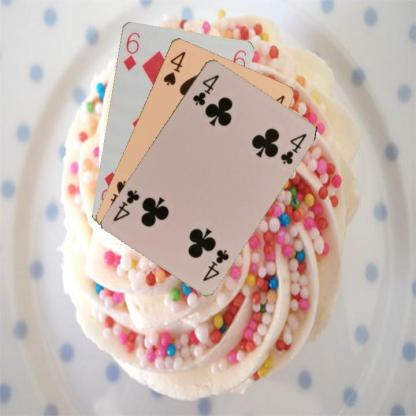4c: (200, 246, 230, 283), (190, 72, 221, 107)
4s: (161, 48, 187, 87)
6d: (120, 29, 141, 72)
